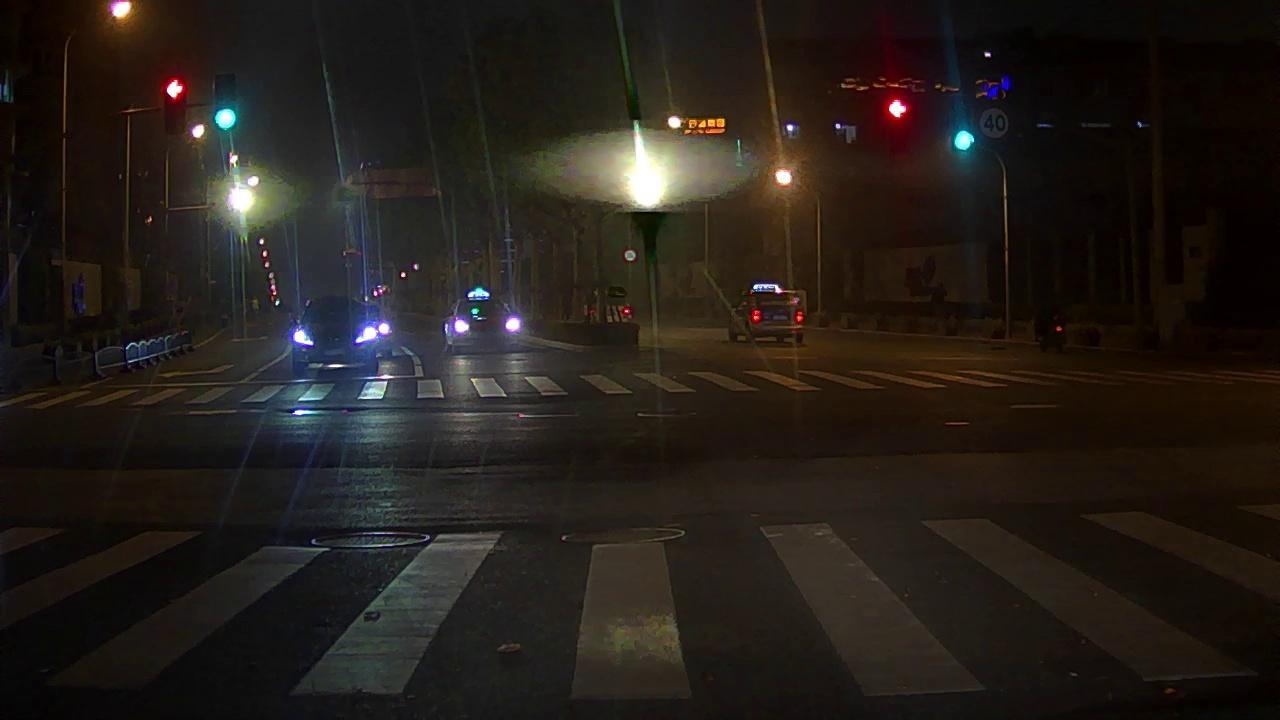traffic_light: (214, 75, 237, 131), (163, 78, 183, 133), (888, 99, 908, 117), (955, 131, 973, 151)
